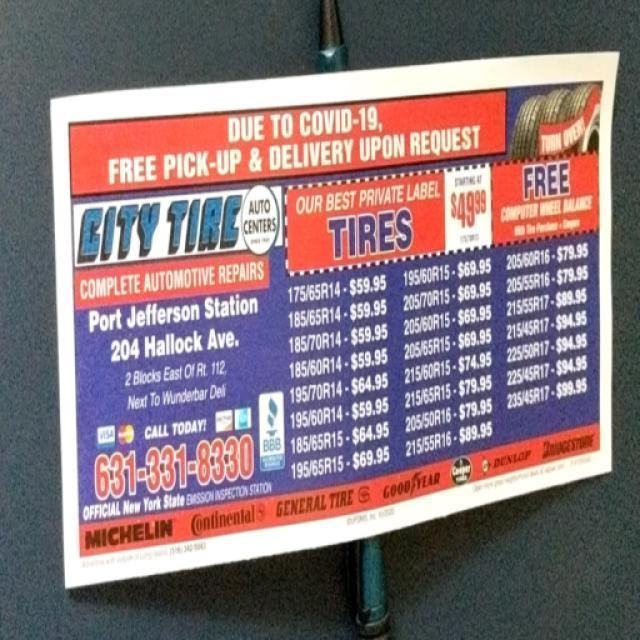document: (52, 52, 616, 586)
